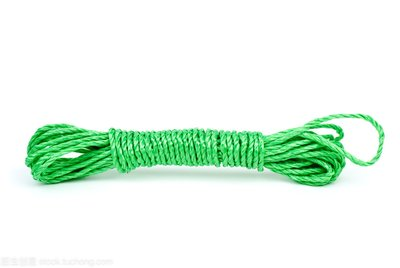9/可回收垃圾/绳子: (24, 112, 385, 187)
